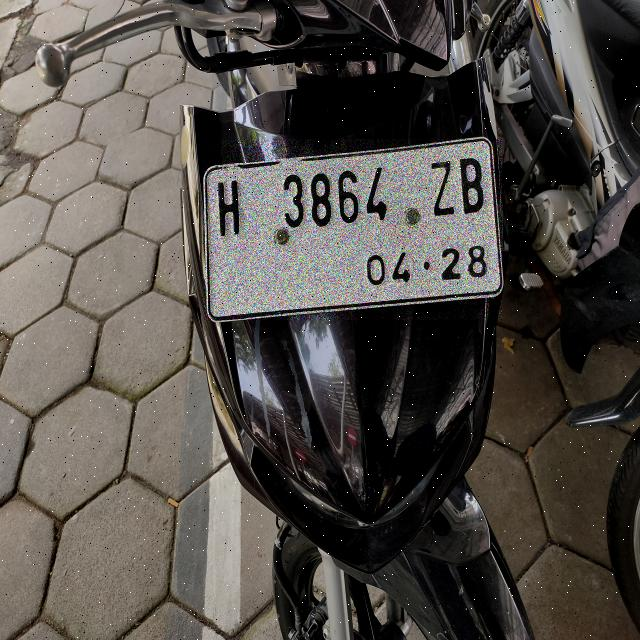plate: (205, 139, 501, 319)
